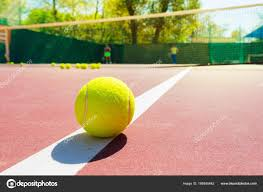tennis_ball: (72, 75, 135, 139)
